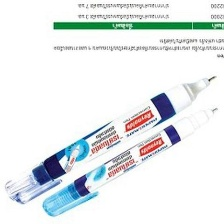correction_fluid: (2, 74, 218, 206), (40, 105, 220, 217)
